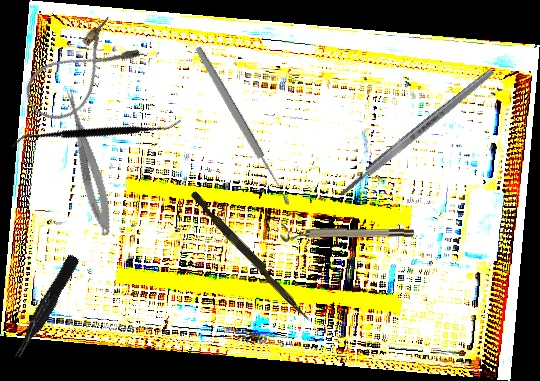Cannula: (16, 13, 144, 132)
Fixation Ring: (280, 224, 414, 245)
Micro Scissor: (55, 83, 119, 238)
Pusher: (187, 190, 315, 323)
Scalpel Handle: (336, 67, 497, 199)
Spatula Surgical: (9, 53, 184, 214)
Surgical Spoon: (193, 44, 293, 208)
Tissue Forceps: (7, 253, 84, 360)
